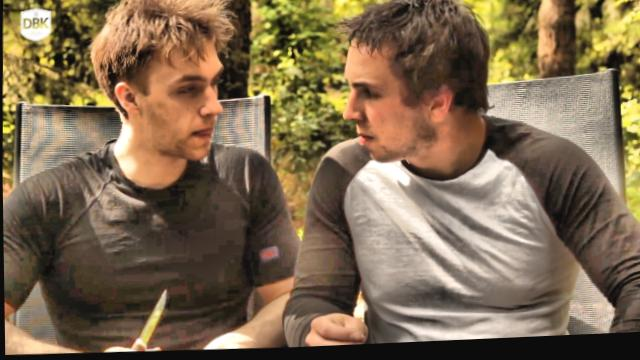knife: (106, 281, 176, 353)
